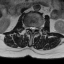CCS_normal: (31, 24, 33, 35)
LFS_stenosis: (36, 24, 38, 32)
LLS_normal: (33, 24, 36, 31)
RFS_normal: (26, 23, 29, 31)
RLS_normal: (29, 24, 31, 31)
